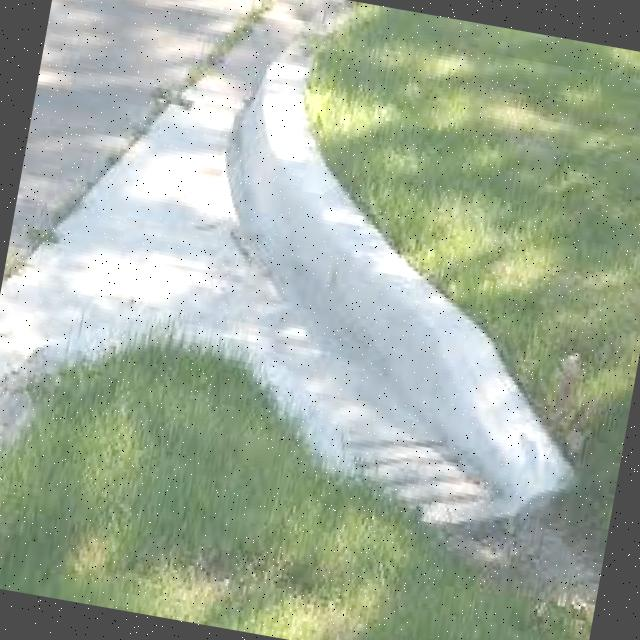curb: (249, 183, 466, 400), (370, 323, 606, 518), (218, 71, 339, 257)
